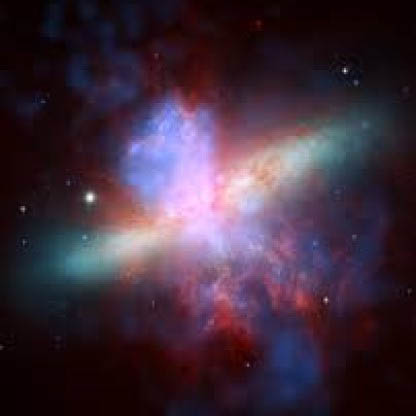Messier 82: (23, 39, 400, 349)
